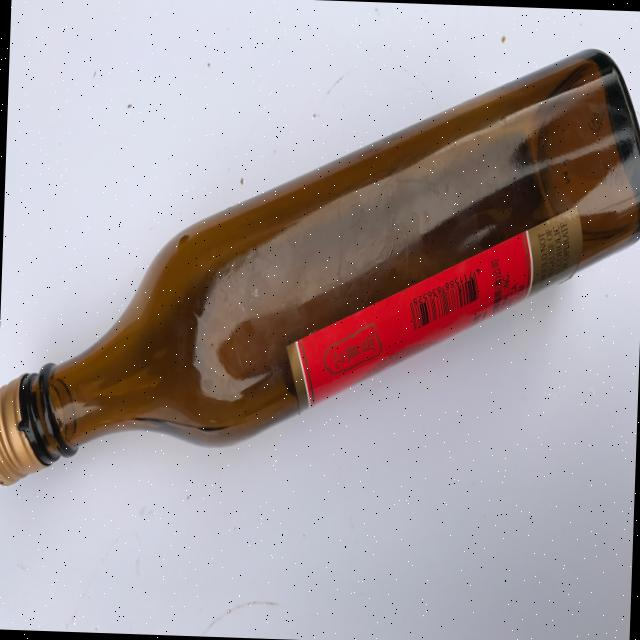glass: (0, 27, 640, 508)
